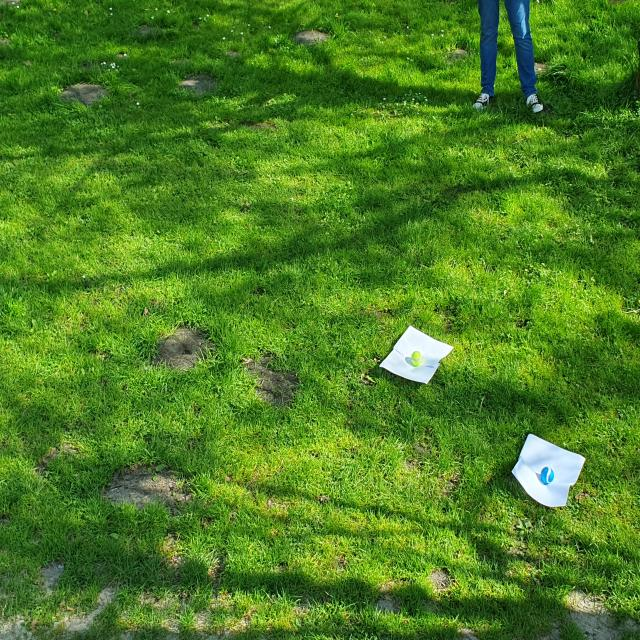blue: (540, 466, 554, 484)
green: (411, 351, 422, 366)
